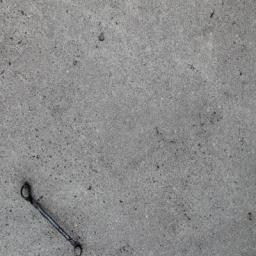FOD: (20, 182, 85, 256)
